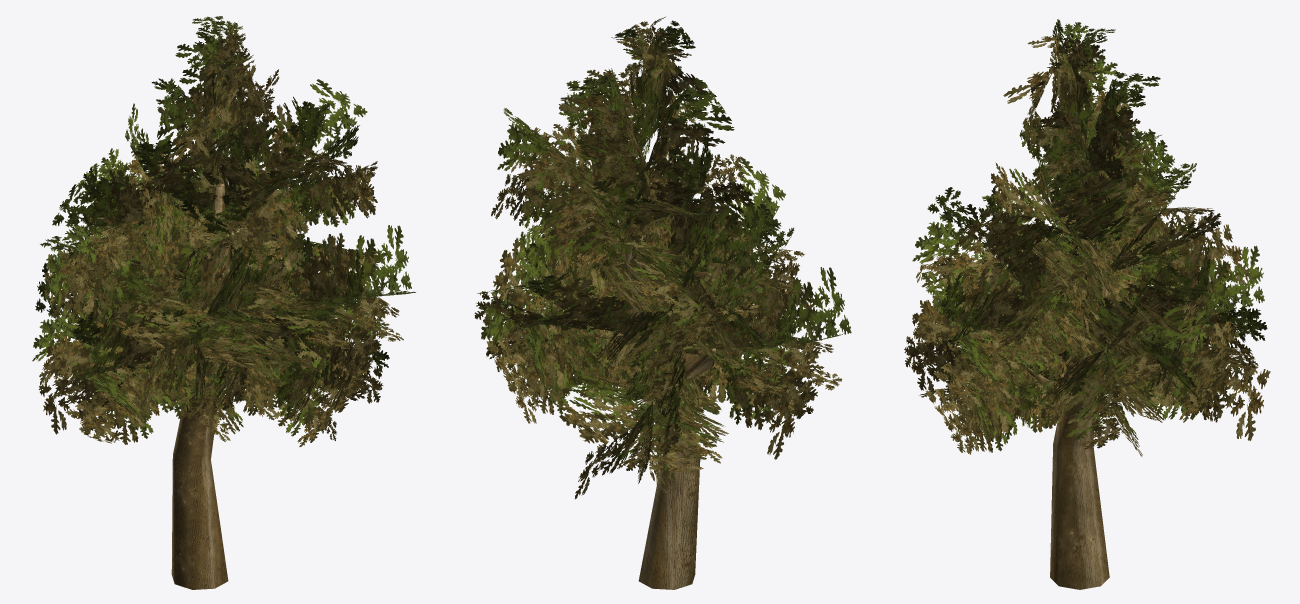
The model's file is tree7.glb.
The picture shows the model from 3 angles, left to right: view 1: azimuth 30°, elevation 25°; view 2: azimuth 150°, elevation 25°; view 3: azimuth 270°, elevation 25°; orthographic projection.
Parts seen in each view (by area): view 1: tree-stylized-04-green; view 2: tree-stylized-04-green; view 3: tree-stylized-04-green.
Boxes of the visible parts, bbox=[...] form: tree-stylized-04-green: bbox=[32, 16, 415, 589]; tree-stylized-04-green: bbox=[474, 17, 851, 589]; tree-stylized-04-green: bbox=[904, 19, 1270, 589].
Size of the model in its own units: 5.51 by 8.27 by 5.27.
2 materials, 2 textured.
